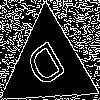D: (23, 39, 72, 97)
